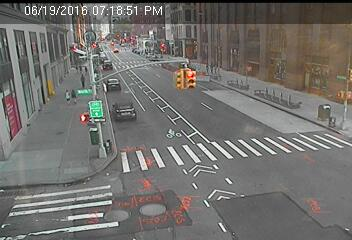neg: (176, 58, 199, 89), (21, 95, 43, 124), (134, 178, 155, 207), (35, 141, 56, 168), (25, 48, 45, 76), (211, 90, 231, 117), (247, 31, 266, 57), (272, 95, 291, 120), (308, 100, 326, 124), (118, 96, 136, 120), (106, 49, 124, 73), (292, 182, 310, 206), (250, 120, 267, 143), (101, 134, 118, 157), (303, 48, 319, 70), (90, 96, 106, 118), (133, 69, 149, 90), (163, 125, 179, 146), (84, 124, 98, 143), (252, 169, 265, 187), (203, 166, 215, 182)
pos: (77, 71, 91, 90), (68, 87, 81, 104), (60, 88, 73, 105)
